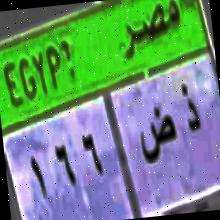1: (26, 151, 50, 206)
6: (78, 127, 109, 188), (53, 134, 79, 199)
daad: (134, 102, 182, 170)
zaal: (179, 74, 203, 146)
